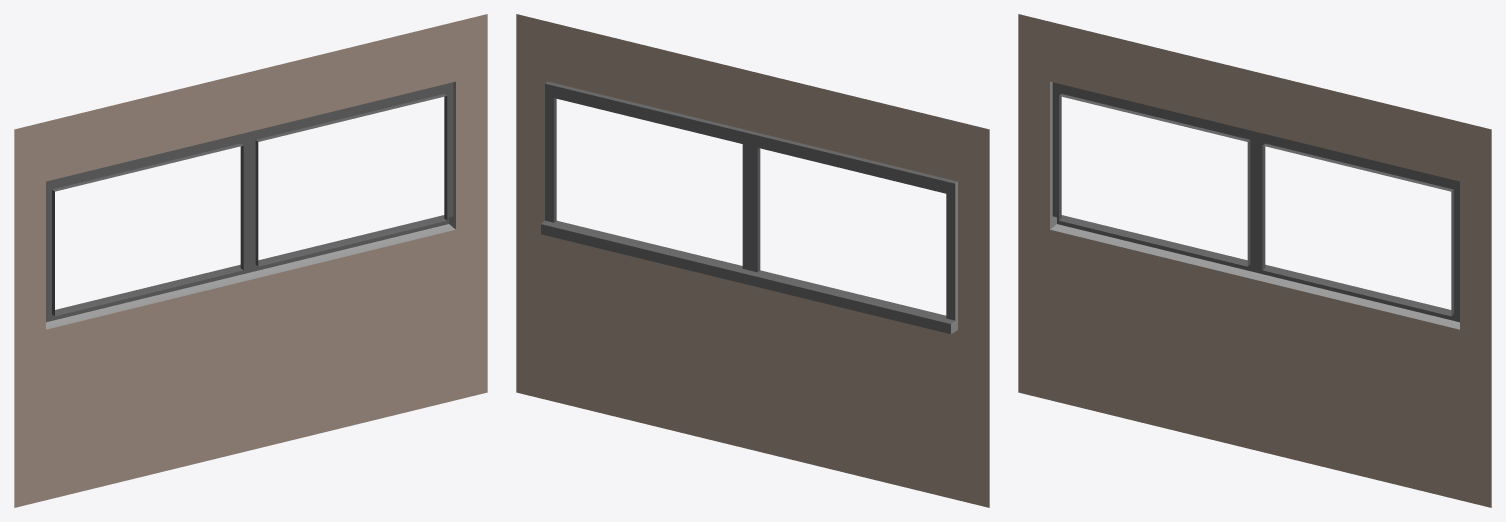
Rendered from WallHallway.fbx.
3 views of the same model, side by side, from view 1: azimuth 30°, elevation 25°; view 2: azimuth 150°, elevation 25°; view 3: azimuth 330°, elevation 25° (orthographic).
Parts seen in each view (by area): view 1: WallWindow_Hallway1; view 2: WallWindow_Hallway1; view 3: WallWindow_Hallway1.
Part boxes in pixels (bbox=[...]): WallWindow_Hallway1: bbox=[14, 14, 487, 507]; WallWindow_Hallway1: bbox=[516, 14, 989, 507]; WallWindow_Hallway1: bbox=[1018, 14, 1491, 507].
Size of the model in its own units: 4.76 by 3.64 by 0.1221.
